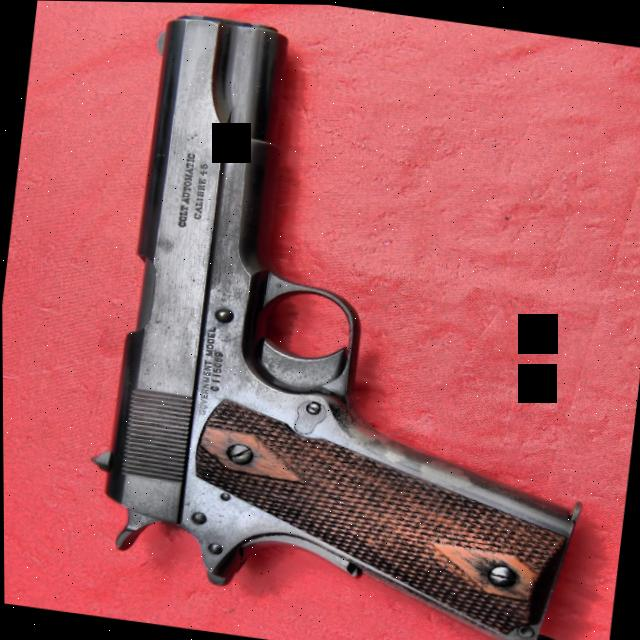Colt m1911: (70, 4, 635, 640)
